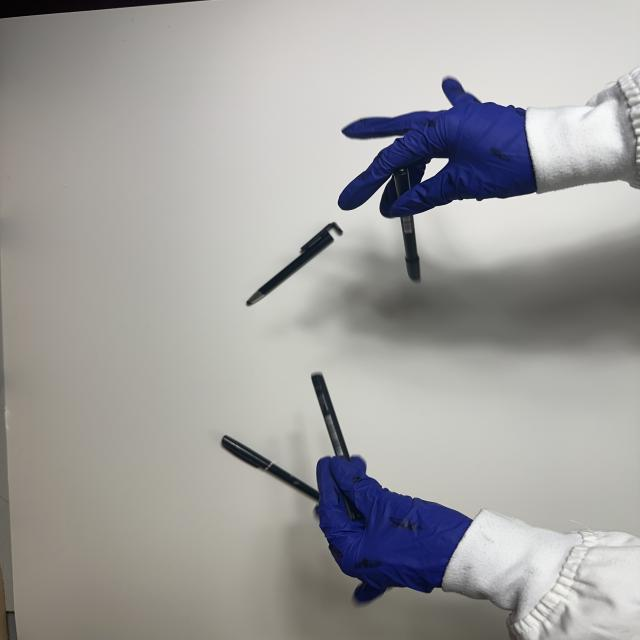gloves_contaminated: (338, 80, 536, 217), (317, 456, 472, 598)
